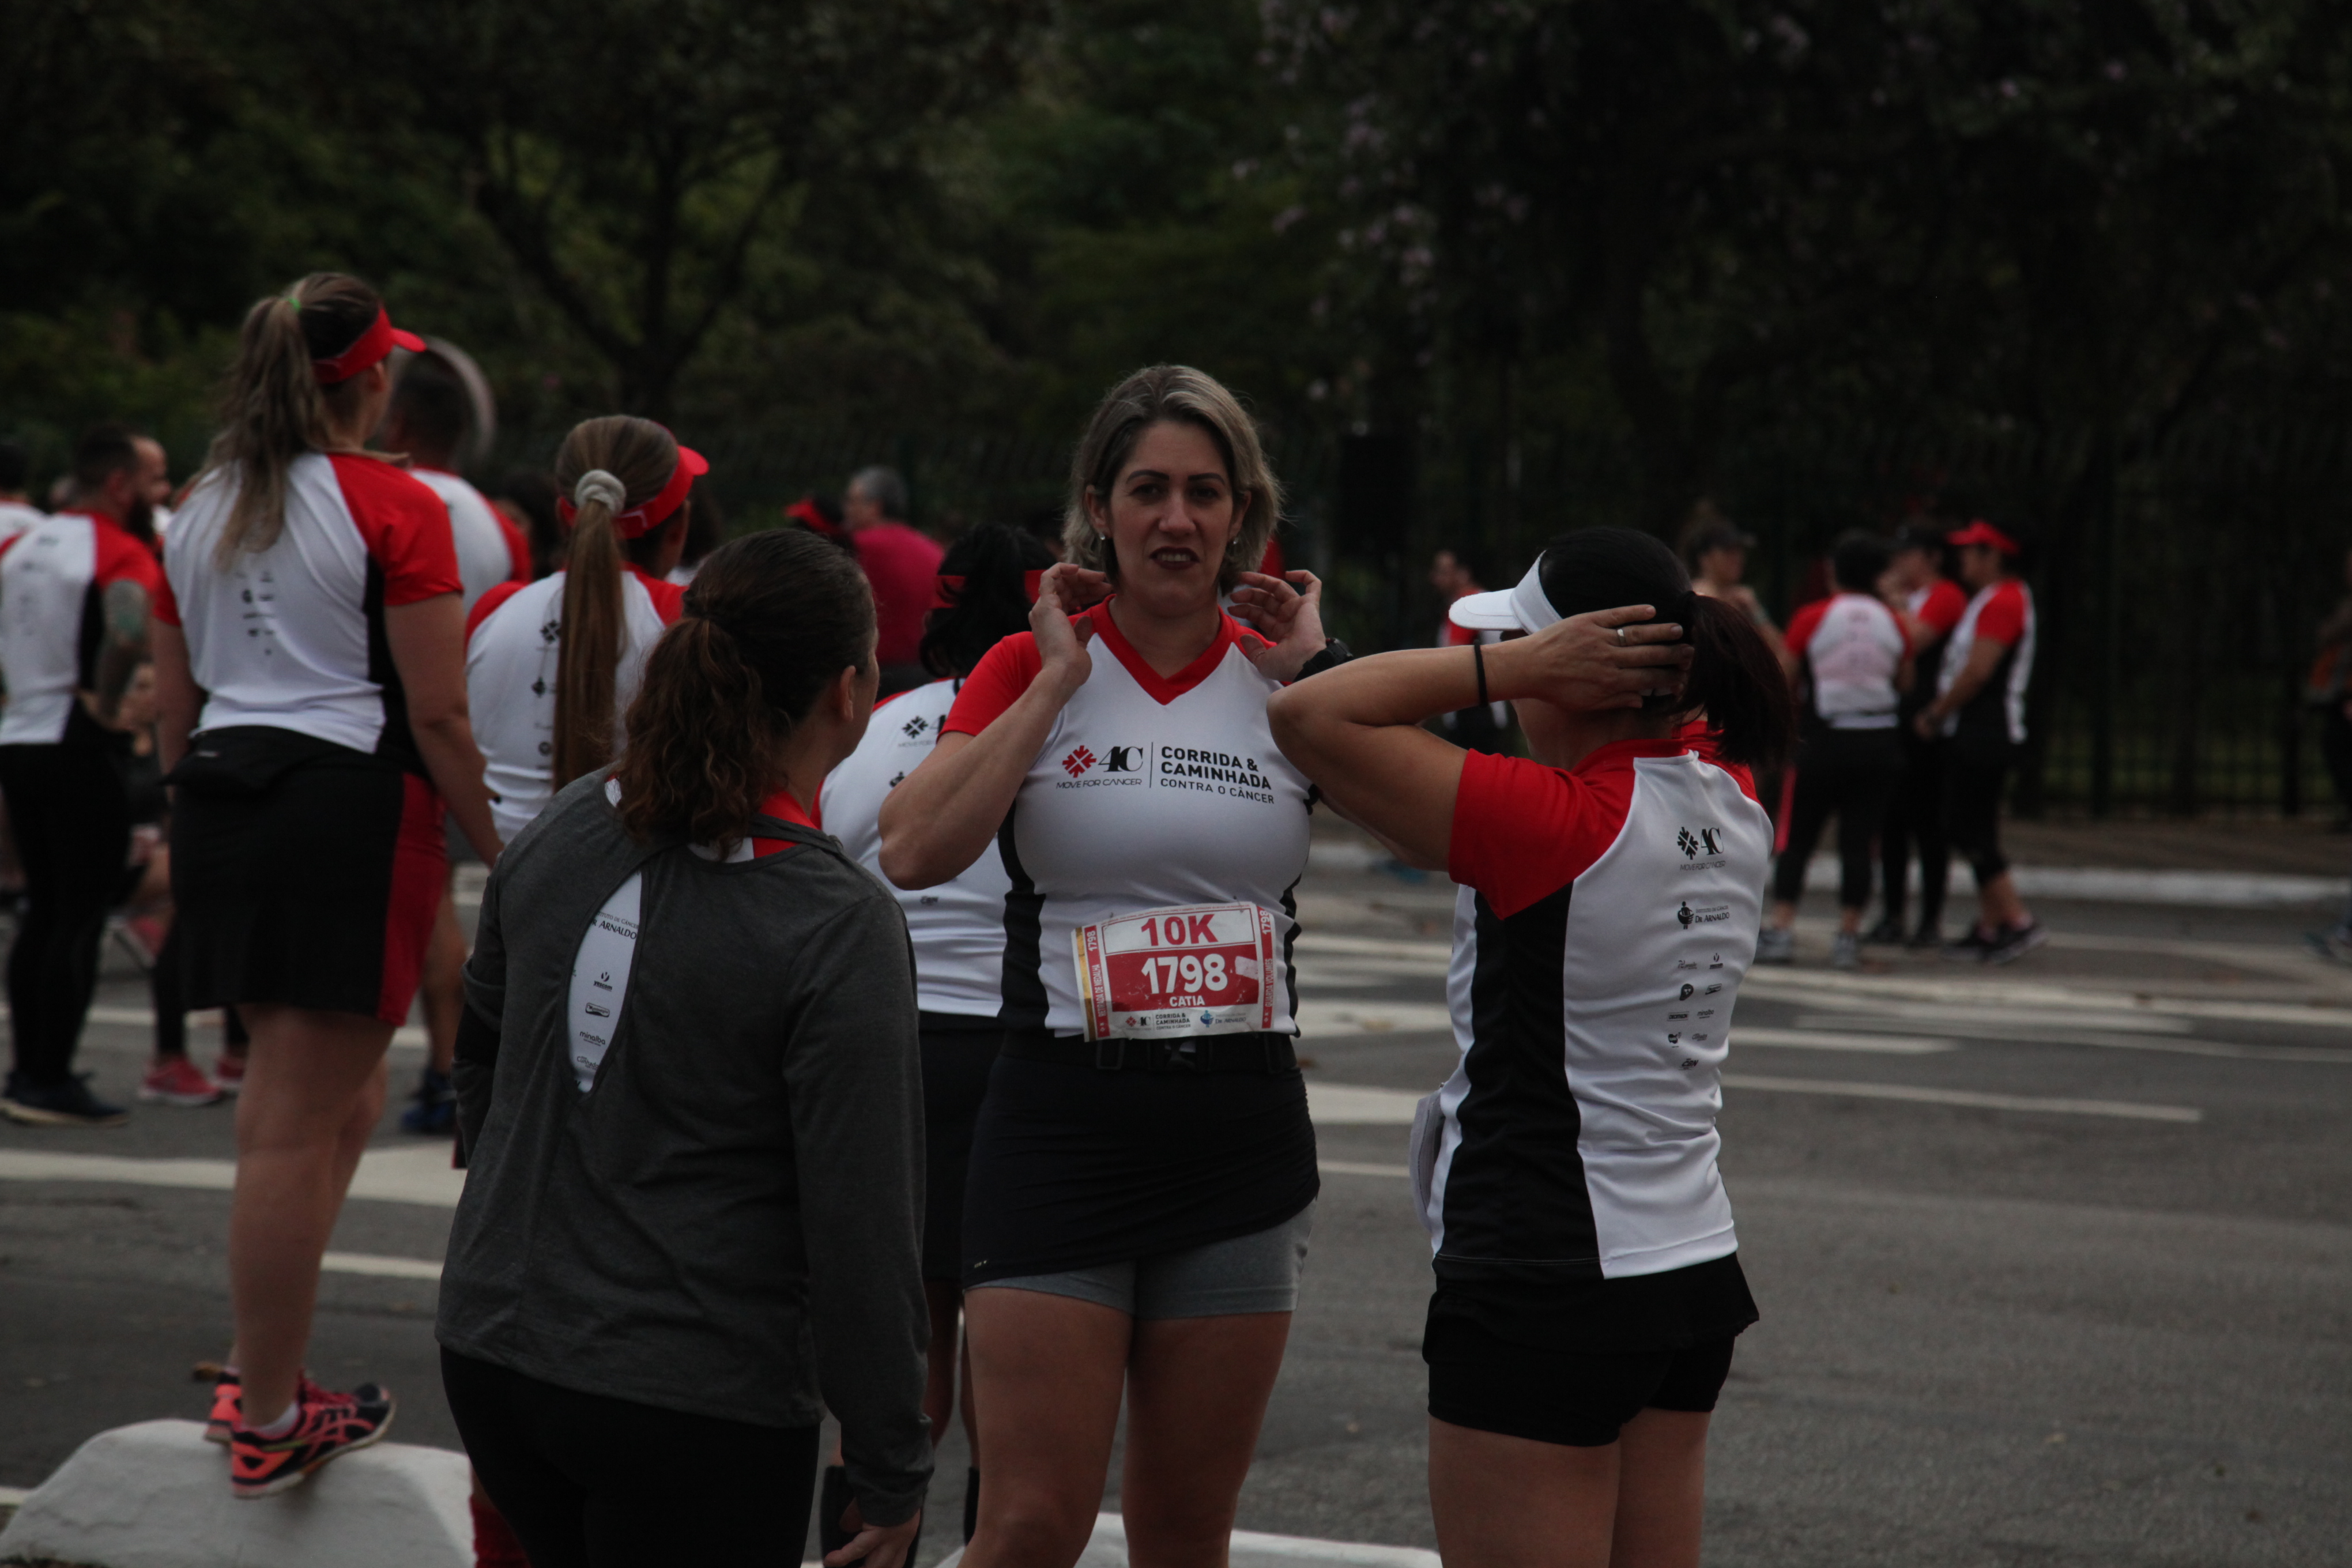bibtag: (1062, 905, 1302, 1050)
